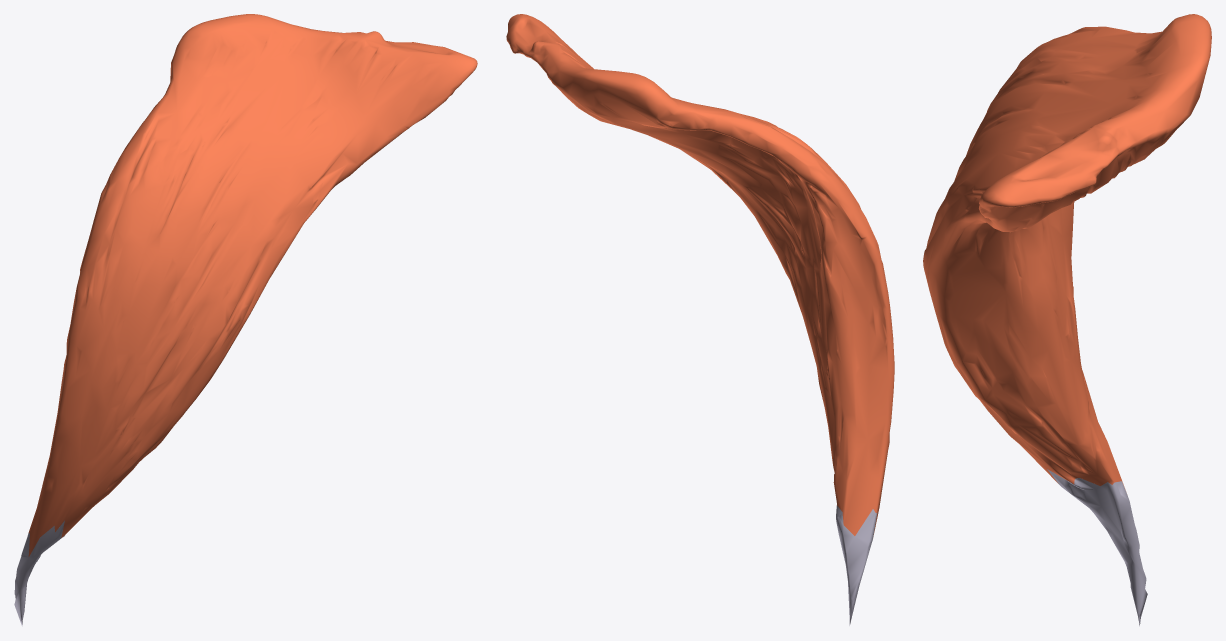
Rendered from Clavicular_part_of_deltoid_muscle.r_Generated_Mesh_From_X3D.996.glb.
3 views of the same model, side by side, from view 1: azimuth 30°, elevation 25°; view 2: azimuth 150°, elevation 25°; view 3: azimuth 270°, elevation 25° (orthographic). The views are drawn at different scales.
Visible parts, largest first — view 1: Clavicular_part_of_deltoid_muscle.r_Generated_Mesh_From_X3D.; view 2: Clavicular_part_of_deltoid_muscle.r_Generated_Mesh_From_X3D.; view 3: Clavicular_part_of_deltoid_muscle.r_Generated_Mesh_From_X3D..
Boxes of the visible parts, x1=… form: Clavicular_part_of_deltoid_muscle.r_Generated_Mesh_From_X3D.: x1=14, y1=14, x2=477, y2=626; Clavicular_part_of_deltoid_muscle.r_Generated_Mesh_From_X3D.: x1=506, y1=14, x2=894, y2=625; Clavicular_part_of_deltoid_muscle.r_Generated_Mesh_From_X3D.: x1=923, y1=14, x2=1211, y2=626.
Size of the model in its own units: 0.126 by 0.1563 by 0.0549.
